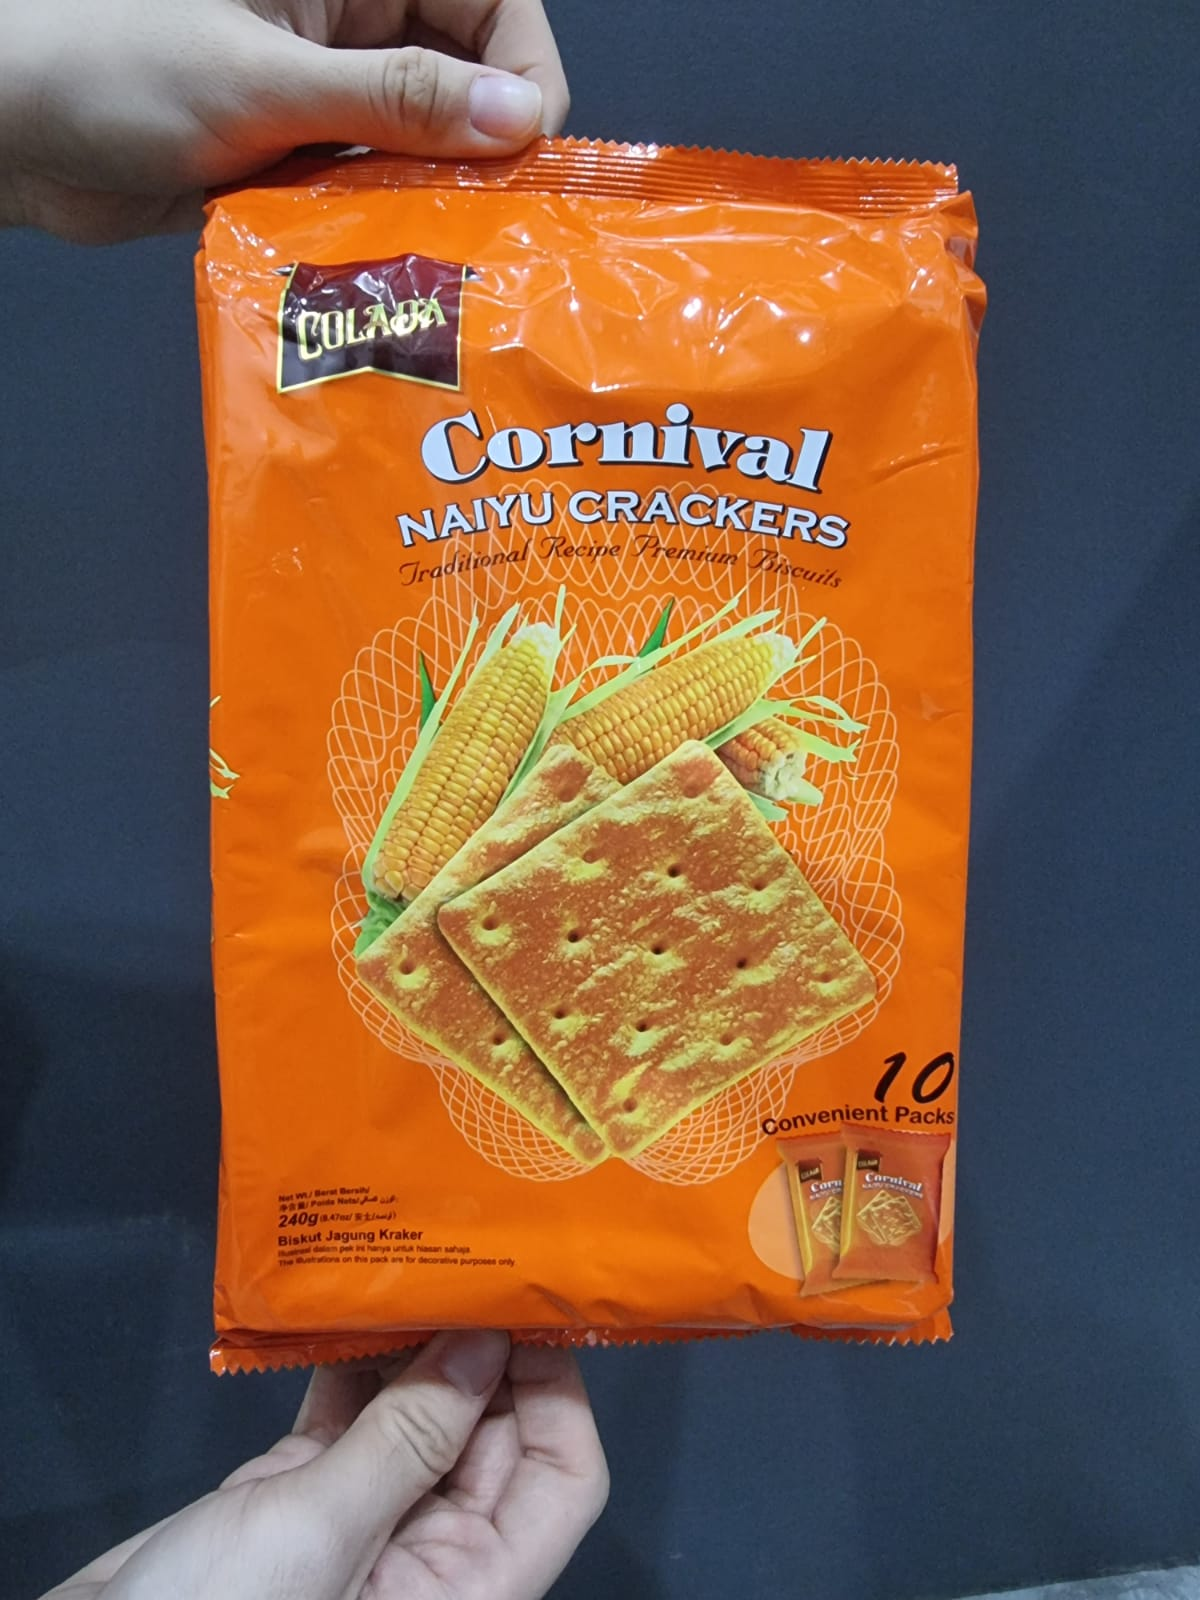Biscuits: (239, 215, 958, 1281)
